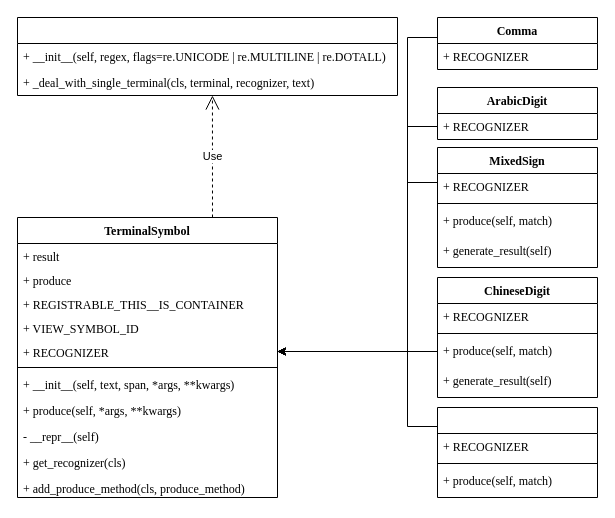
This 615x518 diagram has some shape labels left out. Here are the shapes that lost their labels. From the top down, the box of each, then its label:
(16, 16, 398, 96): RegexRecognizer
(436, 406, 598, 498): ChineseUnits
